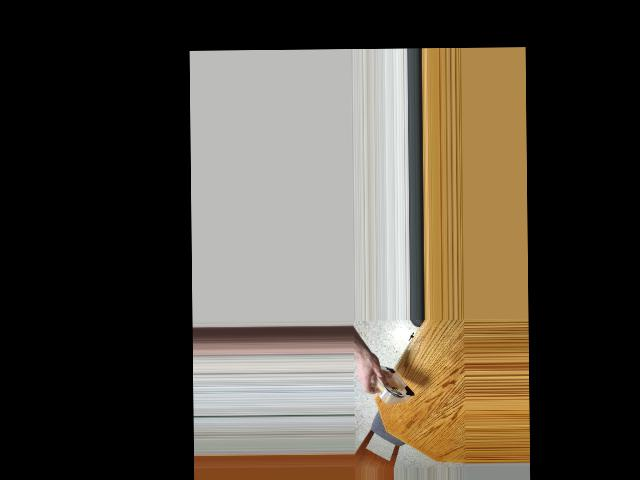cheese: (372, 353, 414, 411)
